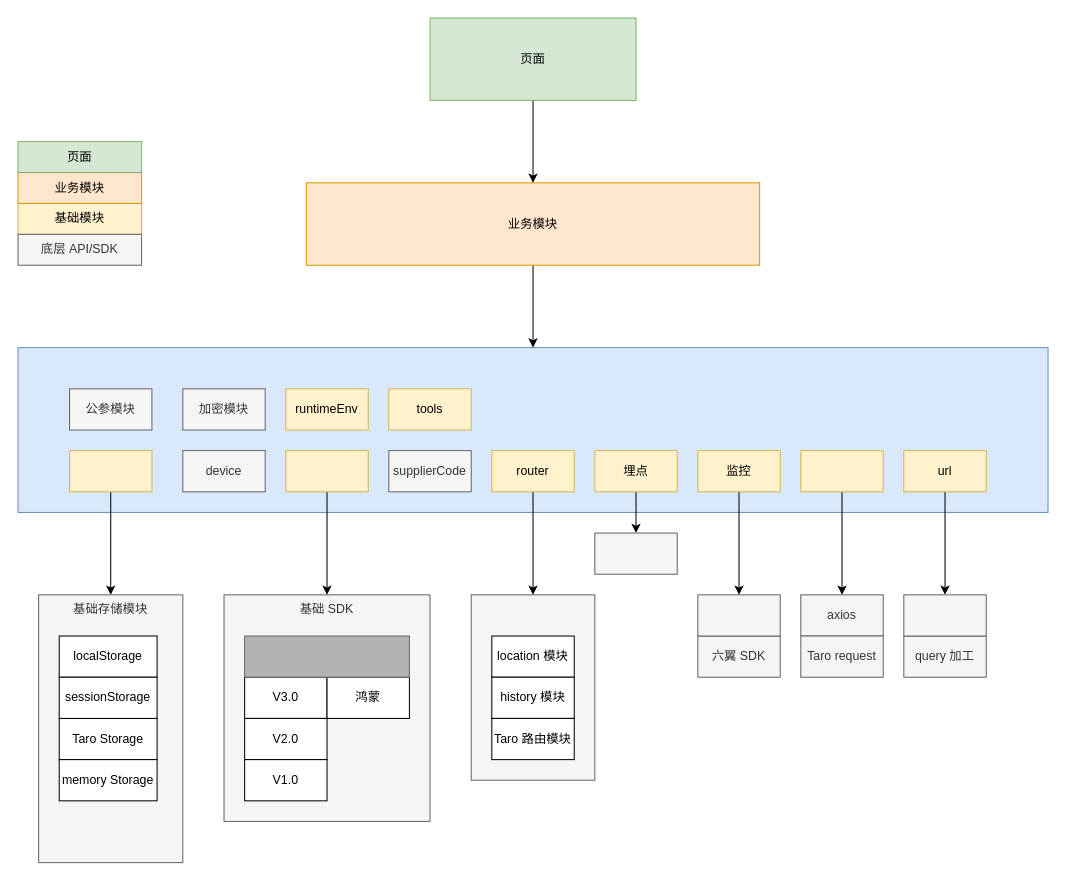
The diagram is 1066 pixels wide and 881 high, and some of its shapes have lost their labels. Here are the shapes that lost their labels. From the top down, the box of each, then its label:
(17, 347, 1048, 512): 基础库
(68, 450, 152, 492): storage
(285, 450, 368, 492): bridge
(800, 450, 883, 492): request
(594, 532, 677, 574): 神策 SDK
(697, 594, 780, 636): 小程序监控SDK
(903, 594, 986, 636): url 拼接
(244, 635, 409, 677): debug page
(470, 594, 595, 780): 基础路由
